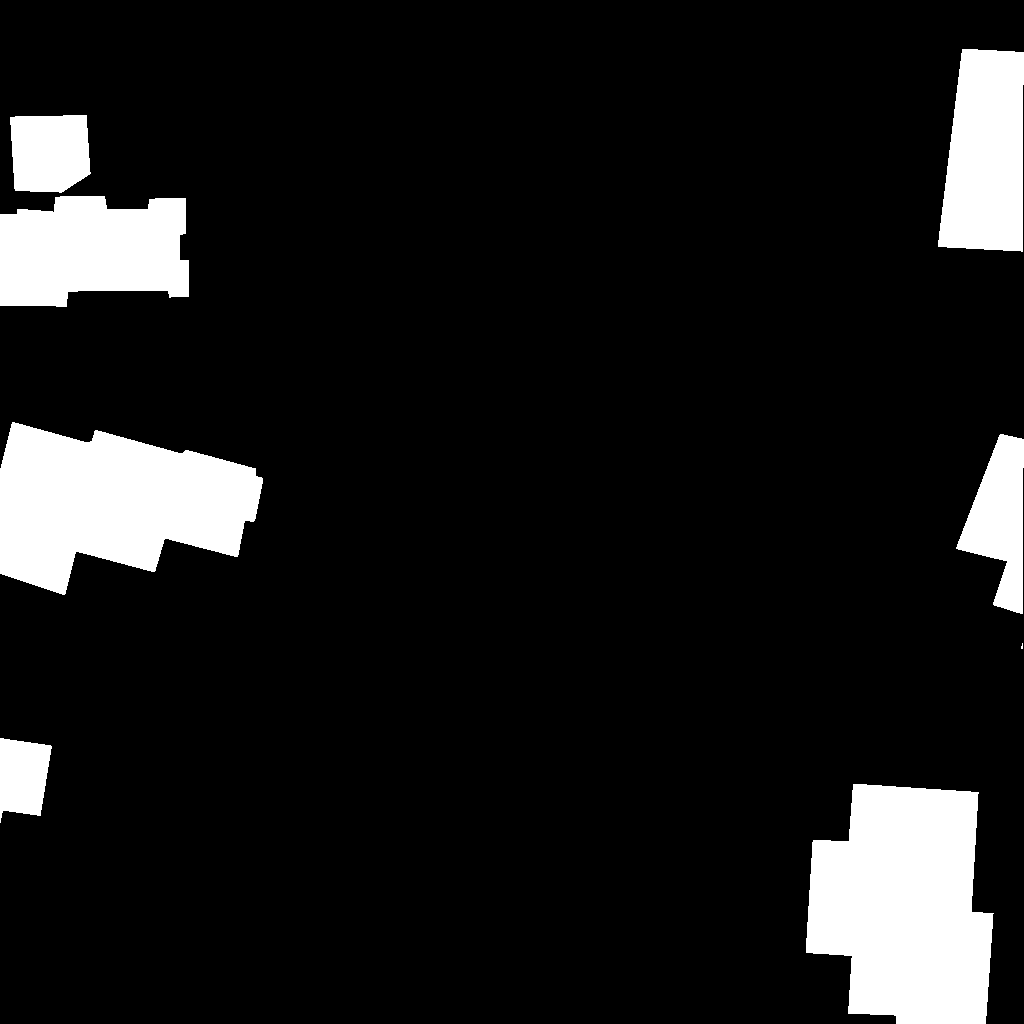building: (0, 422, 264, 596), (806, 784, 994, 1024), (0, 196, 190, 307), (938, 49, 1024, 252), (956, 434, 1024, 650), (10, 115, 91, 193), (0, 738, 53, 826)
